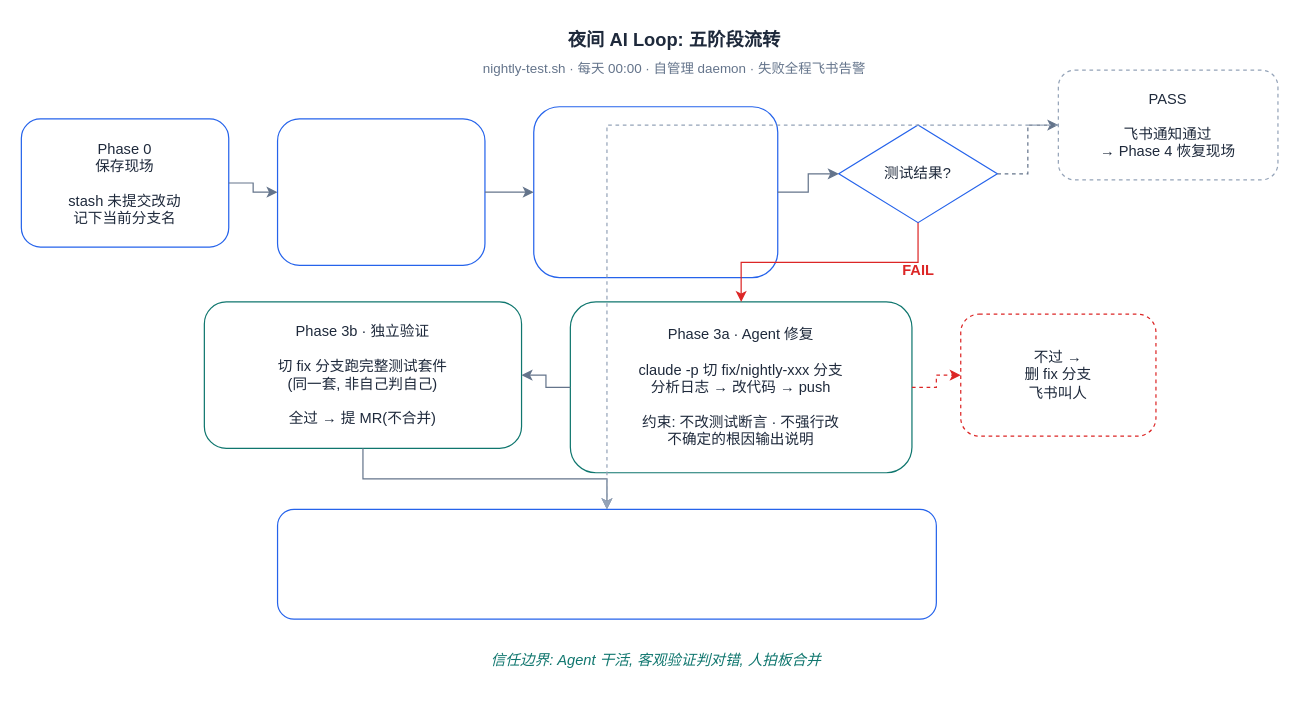
Image size: 1299x712. Some labels were removed from this diagram. The shapes that lost their labels are listed below. From the top down, each one's box as (x1, y1, x2, y2) in pixels, then its label:
(276, 118, 485, 265): Phase 1 同步 dev fetch + checkout dev reset --hard origin/dev
(533, 106, 778, 278): Phase 2 8 步全量测试 后端单测 ∥ 前端单测 → 后端 IT → 运营单测 → 起后端 → 运营 E2E → H5 E2E → 小程序编译
(276, 508, 936, 619): Phase 4 · 恢复现场 切回原分支 → pop stash 开发者第二天打开电脑, 工作区和昨晚一模一样
